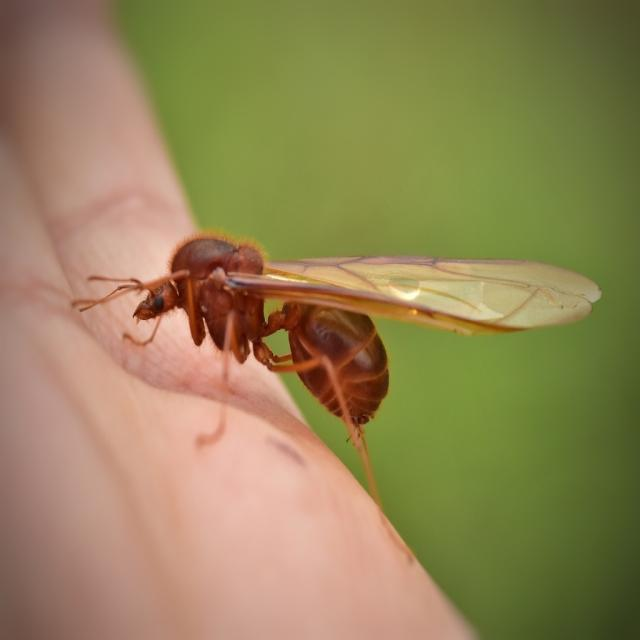Alive-Male-Alate: (70, 231, 603, 564)
